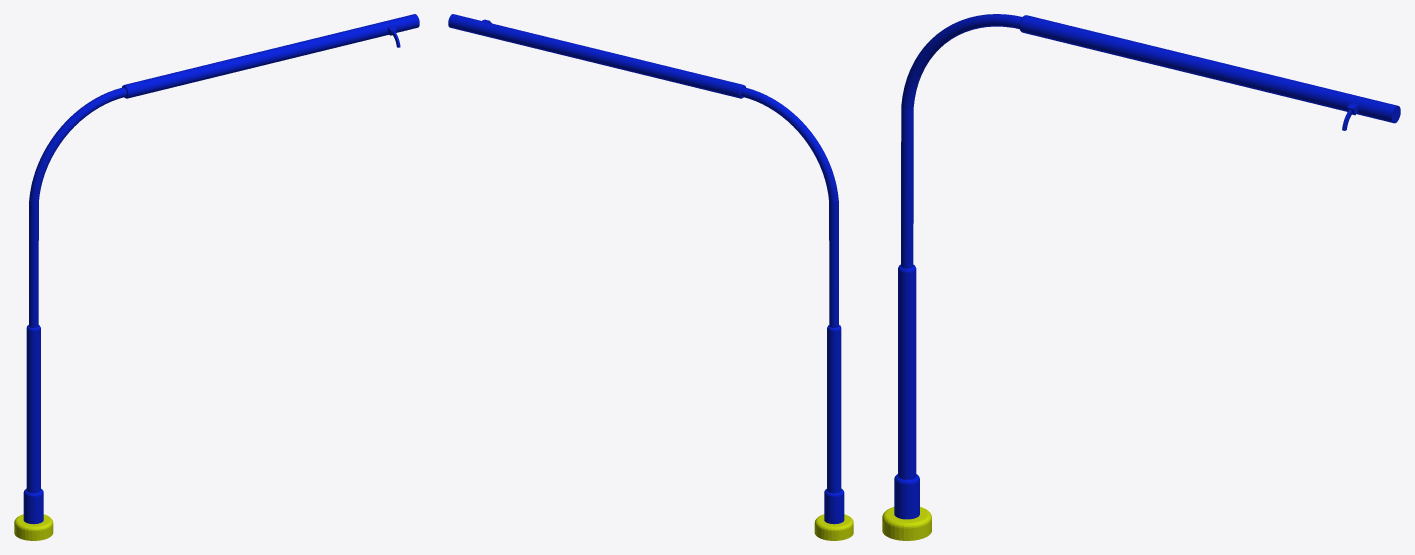
The model's file is sloup2.fbx.
3 views of the same model, side by side, from view 1: azimuth 30°, elevation 25°; view 2: azimuth 150°, elevation 25°; view 3: azimuth 330°, elevation 25° (orthographic). The views are drawn at different scales.
Visible parts, largest first — view 1: sloup2; view 2: sloup2; view 3: sloup2.
Part boxes in pixels (box(x1,y1,x2,y2)): sloup2: box(14, 14, 419, 540); sloup2: box(448, 14, 853, 540); sloup2: box(882, 14, 1400, 540).
Bounding box in the file's own units: 425 × 432 × 41.
